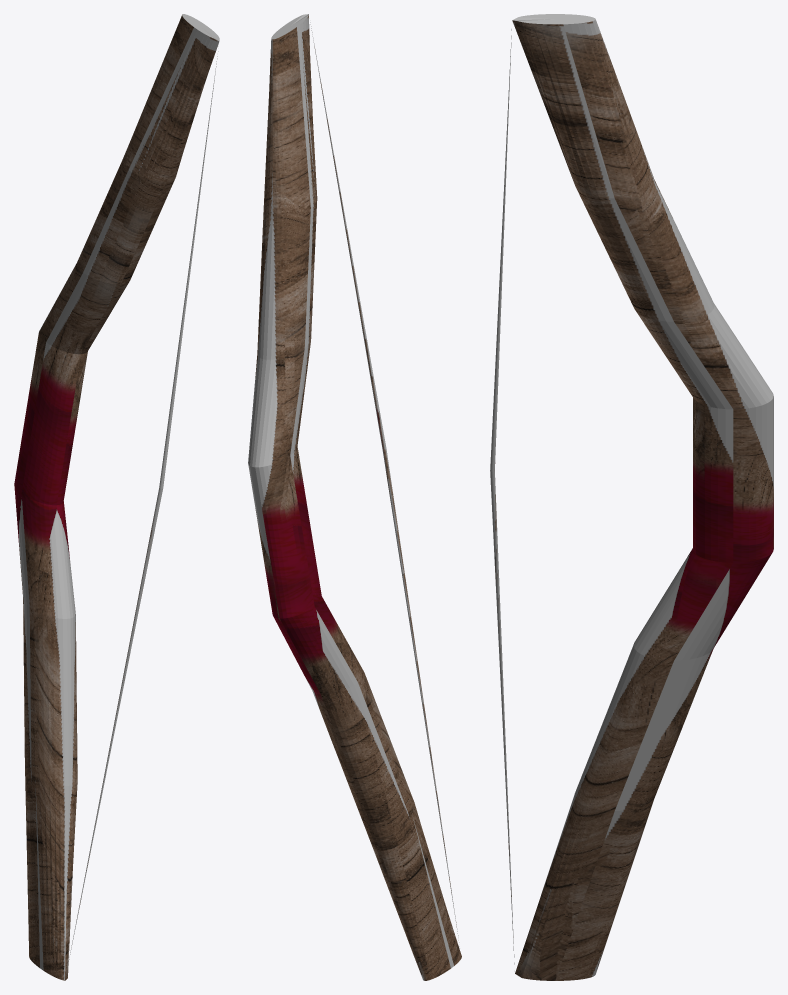
File: Protagonista117.obj
3 renders of one model, left to right at view 1: azimuth 30°, elevation 25°; view 2: azimuth 150°, elevation 25°; view 3: azimuth 270°, elevation 25°, orthographic. The views are drawn at different scales.
Visible parts, largest first — view 1: Cilindro; view 2: Cilindro; view 3: Cilindro.
Part boxes in pixels (<box>): Cilindro: <box>14,14,219,980</box>; Cilindro: <box>248,14,461,980</box>; Cilindro: <box>490,14,773,980</box>.
Size of the model in its own units: 0.1877 by 0.9705 by 0.239.
1 material, 1 textured.
